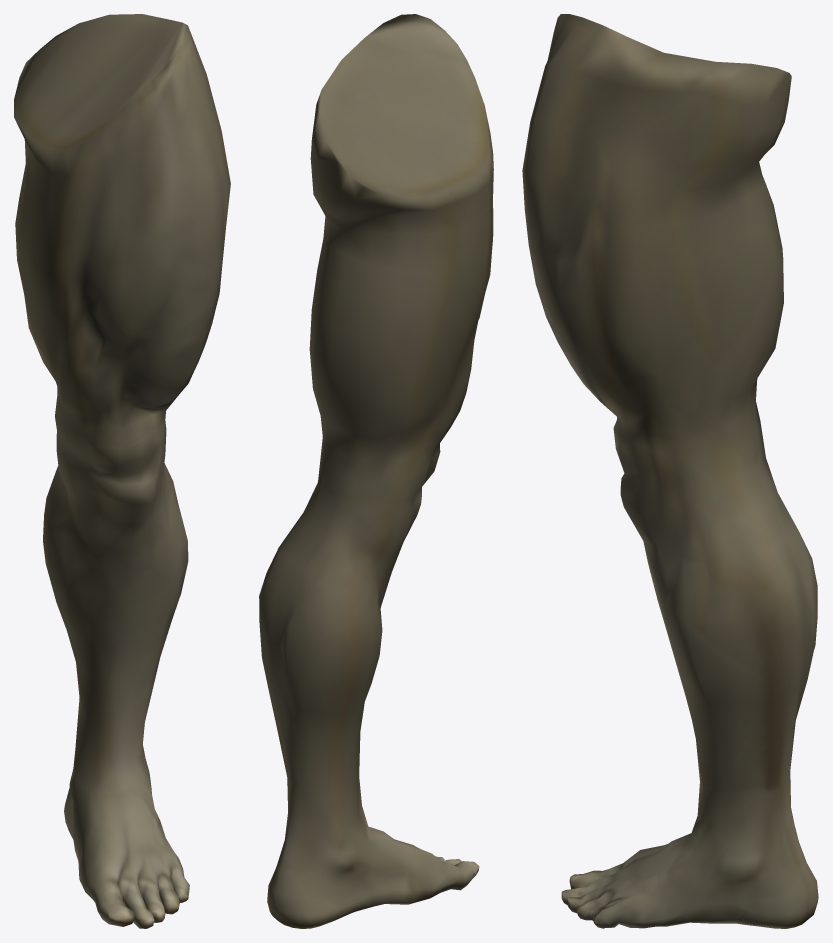
The model's file is tripo-leg-four.glb.
3 views of the same model, side by side, from view 1: azimuth 30°, elevation 25°; view 2: azimuth 150°, elevation 25°; view 3: azimuth 270°, elevation 25° (orthographic). The views are drawn at different scales.
Visible parts, largest first — view 1: tripo-leg-four; view 2: tripo-leg-four; view 3: tripo-leg-four.
Boxes of the visible parts, <box> form: tripo-leg-four: <box>14,14,230,928</box>; tripo-leg-four: <box>259,14,493,928</box>; tripo-leg-four: <box>522,14,818,928</box>.
Bounding box in the file's own units: 0.1855 × 0.8848 × 0.26.
1 material, 1 textured.
